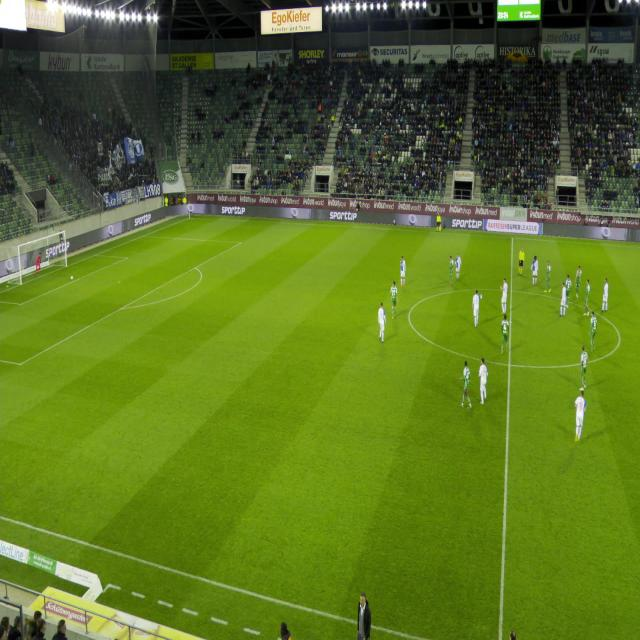Ball: (68, 269, 78, 285)
Player: (568, 380, 593, 452), (473, 348, 494, 410), (456, 352, 476, 416), (495, 308, 515, 370), (374, 298, 395, 355), (388, 274, 406, 326), (577, 339, 594, 392), (585, 305, 602, 356), (599, 268, 614, 321), (470, 284, 486, 333), (398, 248, 412, 302), (497, 272, 511, 325), (542, 253, 556, 304), (529, 245, 543, 294), (558, 276, 572, 322), (30, 244, 46, 282), (581, 276, 594, 321), (570, 261, 584, 302), (446, 252, 457, 296), (452, 245, 462, 285), (433, 205, 445, 236)
Referee: (514, 243, 528, 284)
